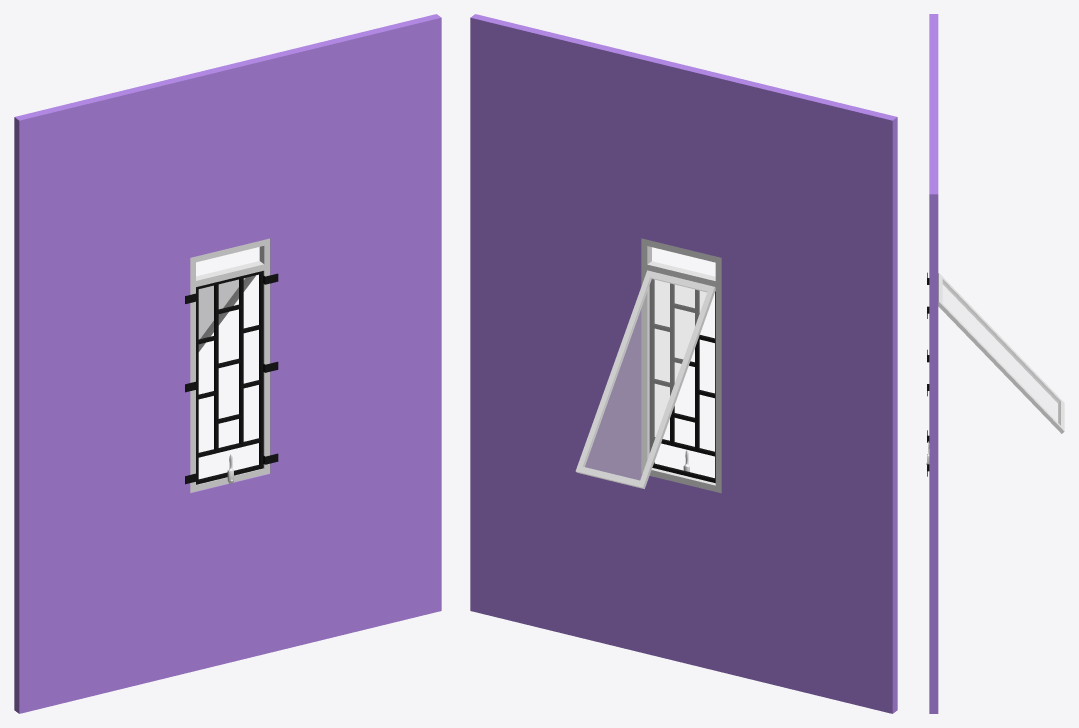
The model's file is tralis-final.glb.
The picture shows the model from 3 angles, left to right: view 1: azimuth 30°, elevation 25°; view 2: azimuth 150°, elevation 25°; view 3: azimuth 270°, elevation 25°; orthographic projection. The views are drawn at different scales.
Parts seen in each view (by area): view 1: Plane.003, Plane.005, Plane, Plane.002, Plane.004; view 2: Plane.003, Plane.002, Plane.005, Plane.001, Plane; view 3: Plane.003, Plane.002, Plane.001.
Part boxes in pixels (x1,y1,x2,y2): Plane.003: [14, 14, 441, 713]; Plane.005: [190, 238, 270, 492]; Plane: [196, 271, 263, 484]; Plane.002: [199, 277, 247, 338]; Plane.004: [185, 273, 278, 484]; Plane.003: [470, 14, 897, 713]; Plane.002: [583, 278, 706, 480]; Plane.005: [641, 238, 721, 493]; Plane.001: [575, 270, 715, 488]; Plane: [649, 279, 715, 482]; Plane.003: [929, 14, 938, 713]; Plane.002: [943, 280, 1060, 424]; Plane.001: [938, 273, 1064, 433].
Size of the model in its own units: 2.83 by 3.8 by 0.9177.
